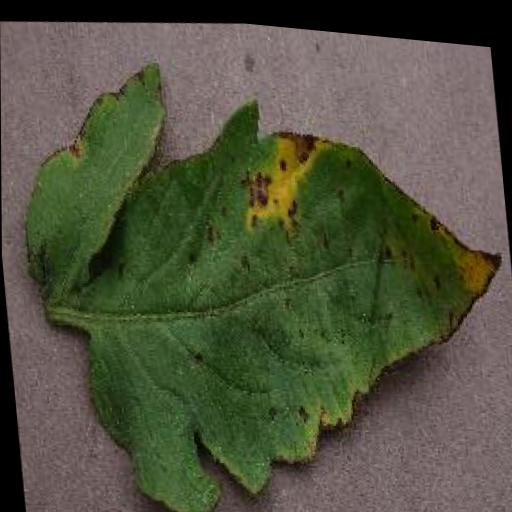Bacterial Spot: (0, 12, 512, 512)
